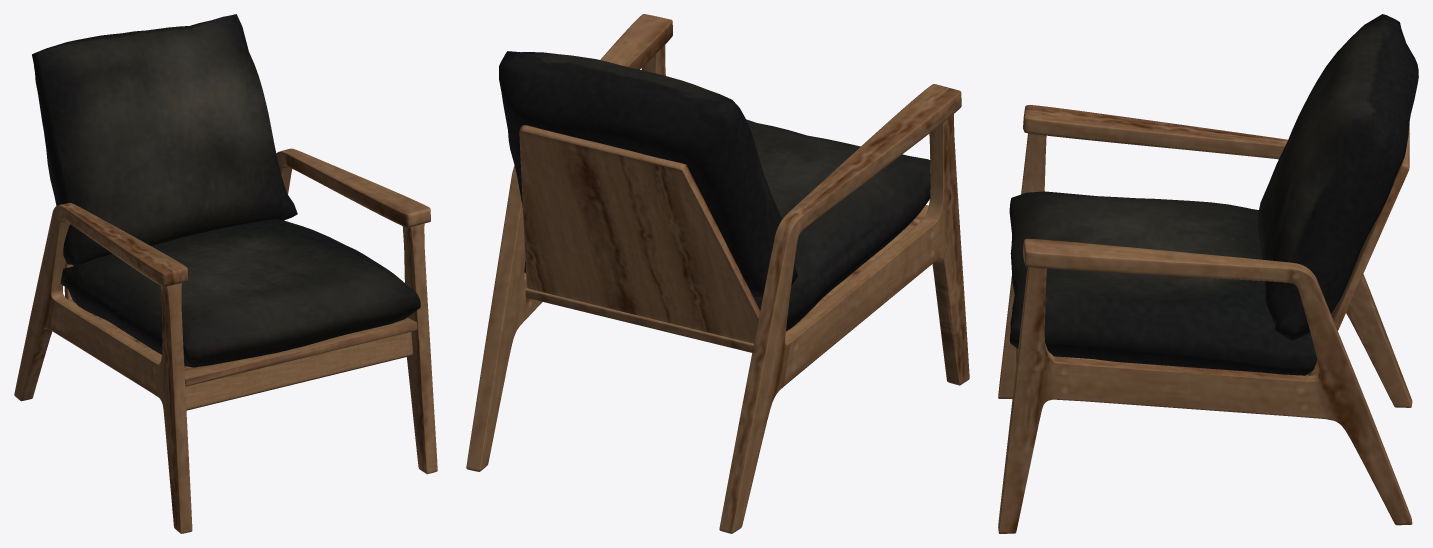
File: modern_arm_chair_01.glb
3 renders of one model, left to right at view 1: azimuth 30°, elevation 25°; view 2: azimuth 150°, elevation 25°; view 3: azimuth 270°, elevation 25°, orthographic. The views are drawn at different scales.
Parts seen in each view (by area): view 1: modern_arm_chair_01; view 2: modern_arm_chair_01; view 3: modern_arm_chair_01.
Part boxes in pixels (x1,y1,x2,y2): modern_arm_chair_01: (14,14,437,533); modern_arm_chair_01: (466,14,969,533); modern_arm_chair_01: (998,14,1418,533).
Bounding box in the file's own units: 0.8203 × 1.02 × 0.9866.
2 materials, 2 textured.
